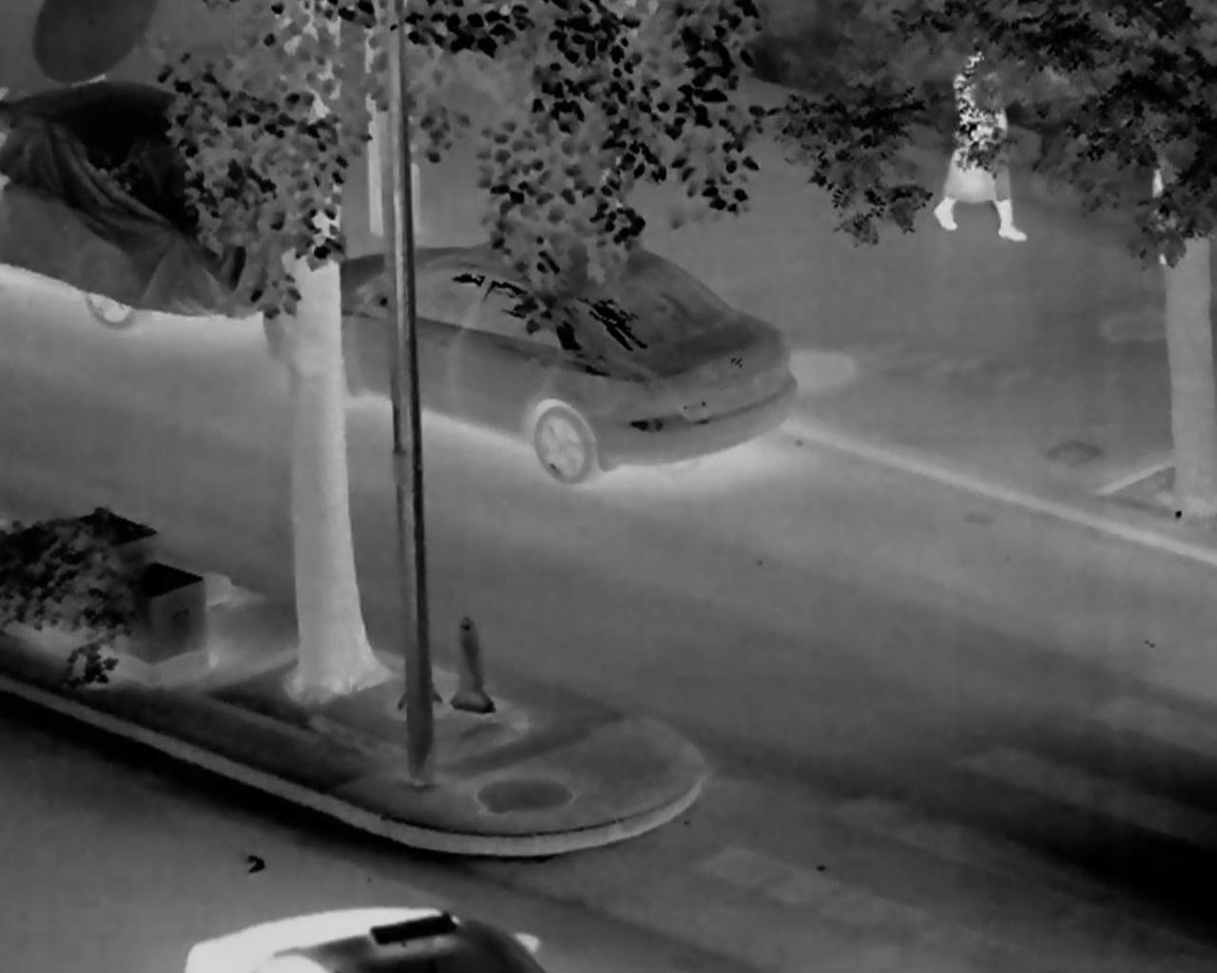person: (931, 40, 1030, 245)
